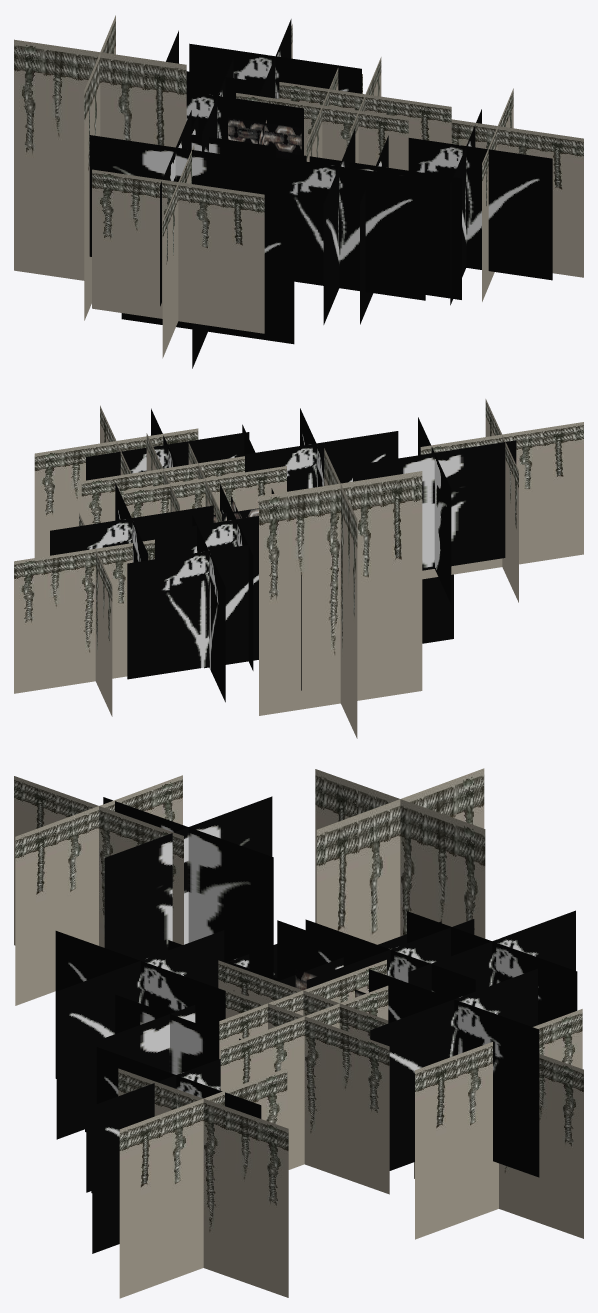
The picture shows the model from 3 angles, top to bottom: view 1: azimuth 30°, elevation 25°; view 2: azimuth 150°, elevation 25°; view 3: azimuth 270°, elevation 25°; orthographic projection. The views are drawn at different scales.
Visible parts, largest first — view 1: Object03; view 2: Object03; view 3: Object03.
Boxes of the visible parts, x1=… form: Object03: x1=14, y1=15, x2=583, y2=368; Object03: x1=14, y1=399, x2=583, y2=738; Object03: x1=14, y1=768, x2=583, y2=1298.
Bounding box in the file's own units: 50.27 × 24.44 × 43.77.
